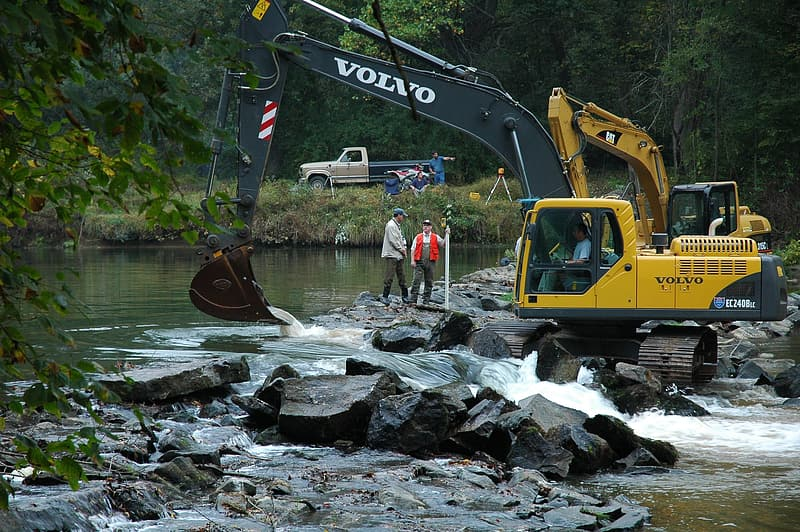excavator: (193, 5, 780, 405)
